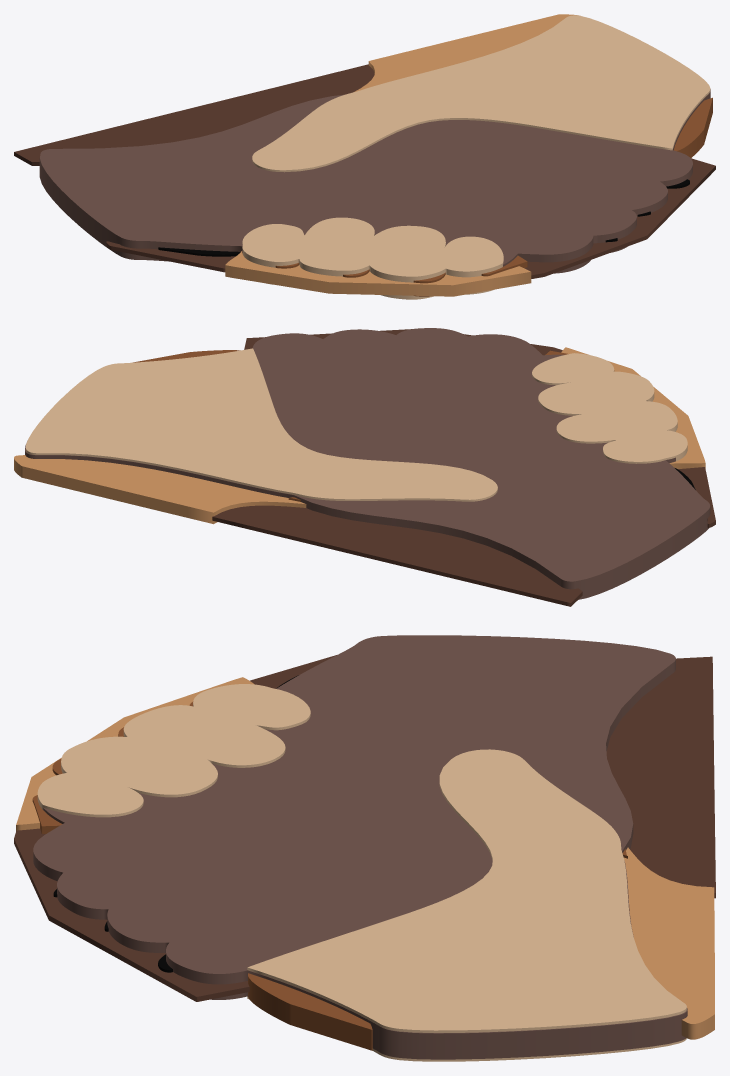
The model's file is emoji_u1faf1_1f3ff_200d_1faf2_1f3fc.glb.
3 renders of one model, top to bottom at view 1: azimuth 30°, elevation 25°; view 2: azimuth 150°, elevation 25°; view 3: azimuth 270°, elevation 25°, orthographic. The views are drawn at different scales.
Visible parts, largest first — view 1: emoji_u1faf1_1f3ff_200d_1faf2_1f3fc; view 2: emoji_u1faf1_1f3ff_200d_1faf2_1f3fc; view 3: emoji_u1faf1_1f3ff_200d_1faf2_1f3fc.
Part boxes in pixels (x1,y1,x2,y2): emoji_u1faf1_1f3ff_200d_1faf2_1f3fc: (14,14,715,299); emoji_u1faf1_1f3ff_200d_1faf2_1f3fc: (14,328,715,606); emoji_u1faf1_1f3ff_200d_1faf2_1f3fc: (14,635,715,1061).
Bounding box in the file's own units: 0.0332 × 0.0012 × 0.0244.
